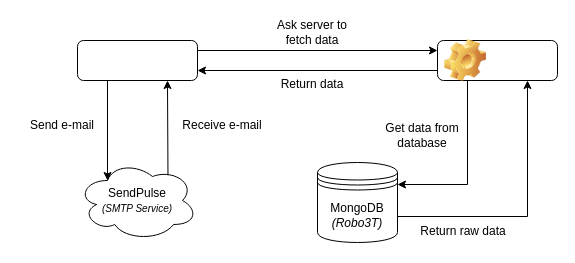
Image size: 575x263. Some labels were removed from this diagram. Each missing label, with the box of its shape:
Express server: (436, 40, 558, 80)
React-Redux: (76, 40, 198, 80)
